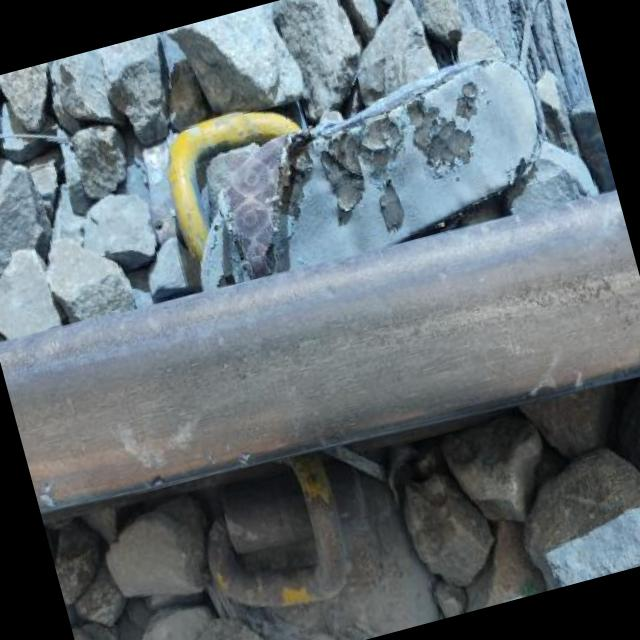non-defective: (0, 169, 640, 535)
